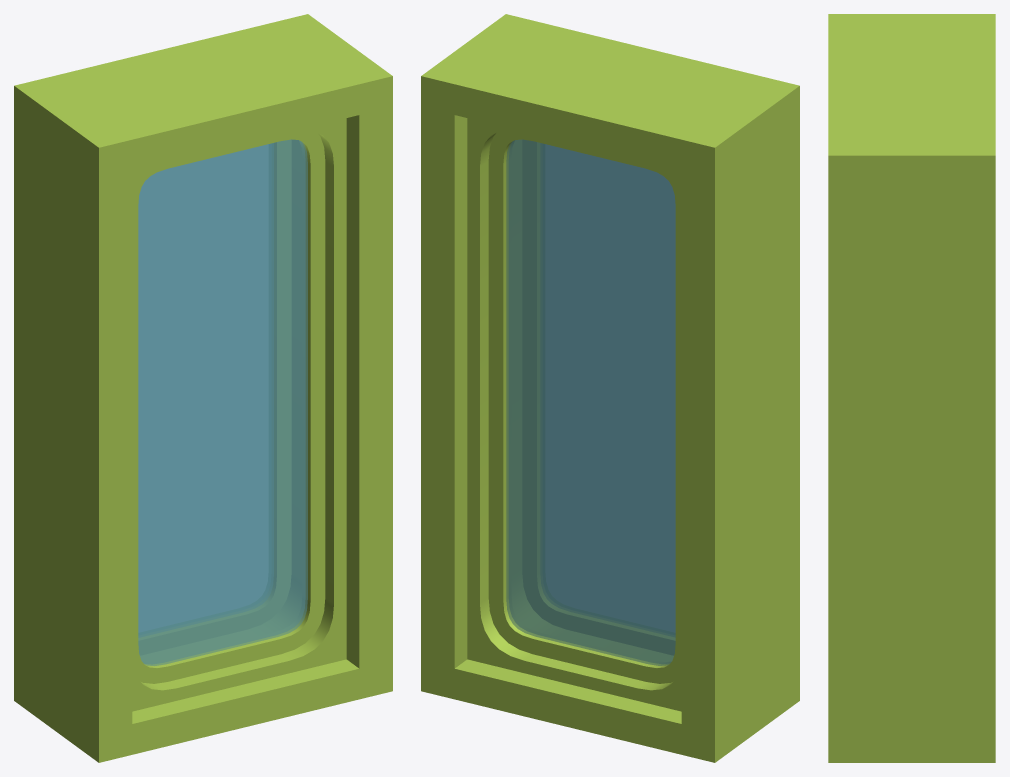
File: Rooms_Wall_Separator_B.FBX
3 views of the same model, side by side, from view 1: azimuth 30°, elevation 25°; view 2: azimuth 150°, elevation 25°; view 3: azimuth 270°, elevation 25° (orthographic).
Visible parts, largest first — view 1: Rooms_Wall_Separator_B; view 2: Rooms_Wall_Separator_B; view 3: Rooms_Wall_Separator_B.
Boxes of the visible parts, x1,y1,x2,y2 form: Rooms_Wall_Separator_B: (14,14,392,762); Rooms_Wall_Separator_B: (421,14,799,762); Rooms_Wall_Separator_B: (828,14,995,762).
Size of the model in its own units: 200 by 400 by 100.
